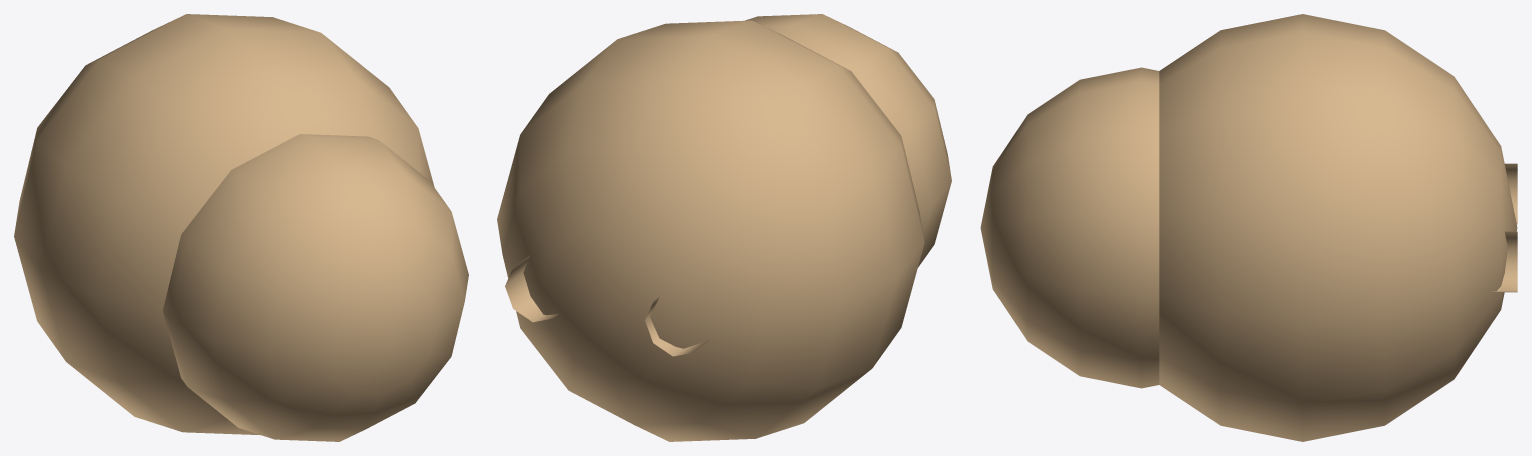
The picture shows the model from 3 angles, left to right: view 1: azimuth 30°, elevation 25°; view 2: azimuth 150°, elevation 25°; view 3: azimuth 270°, elevation 25°; orthographic projection.
Visible parts, largest first — view 1: Yellow-footed Rock Wallaby; view 2: Yellow-footed Rock Wallaby; view 3: Yellow-footed Rock Wallaby.
Boxes of the visible parts, x1=… form: Yellow-footed Rock Wallaby: x1=14, y1=14, x2=468, y2=441; Yellow-footed Rock Wallaby: x1=497, y1=14, x2=951, y2=441; Yellow-footed Rock Wallaby: x1=980, y1=14, x2=1517, y2=441.
Size of the model in its own units: 0.96 by 0.96 by 1.2.
